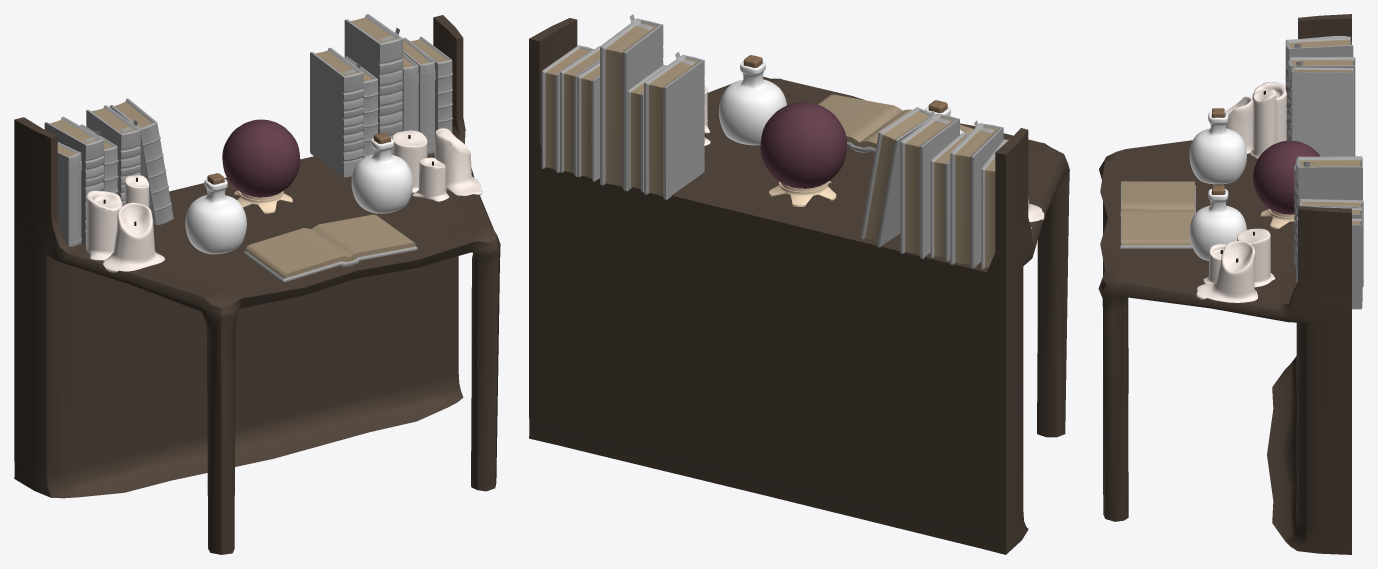
File: Arcane_Level_Objects.fbx
The picture shows the model from 3 angles, left to right: view 1: azimuth 30°, elevation 25°; view 2: azimuth 150°, elevation 25°; view 3: azimuth 270°, elevation 25°; orthographic projection. The views are drawn at different scales.
Visible parts, largest first — view 1: Arcane_Table:Arcane_Table, Spellbook:Spellbook, book_6, Stand, Candle_3 (×2), book_5, Potion_Bottle:Bottle, Bottle, Candle_1 (×2), Book_4, Book_3:book_3, book_3 (+8 smaller); view 2: Arcane_Table:Arcane_Table, book_6, book_5, Stand, book_3, Book_3:book_3, Book_4, Bottle, Spellbook:Spellbook, book_4, Book_5, Book_1:Book_1 (+4 smaller); view 3: Arcane_Table:Arcane_Table, Book_4, Spellbook:Spellbook, Candle_3 (×2), book_5, Potion_Bottle:Bottle, Stand, Bottle, Candle_1 (×2), Candle_2 (×2), Book_3:book_3, book_3 (+3 smaller).
Part boxes in pixels (left/top/right/bottom): Arcane_Table:Arcane_Table: left=14, top=15, right=500, bottom=554; Spellbook:Spellbook: left=244, top=214, right=417, bottom=282; book_6: left=310, top=47, right=363, bottom=177; Stand: left=222, top=119, right=300, bottom=197; Candle_3 (×2): left=103, top=128, right=482, bottom=272; book_5: left=344, top=14, right=402, bottom=154; Potion_Bottle:Bottle: left=185, top=178, right=246, bottom=254; Bottle: left=351, top=138, right=413, bottom=213; Candle_1 (×2): left=86, top=130, right=427, bottom=260; Book_4: left=110, top=98, right=173, bottom=224; Book_3:book_3: left=44, top=116, right=103, bottom=245; book_3: left=86, top=105, right=140, bottom=205; Arcane_Table:Arcane_Table: left=529, top=18, right=1069, bottom=554; book_6: left=644, top=52, right=704, bottom=199; book_5: left=600, top=14, right=663, bottom=191; Stand: left=760, top=102, right=846, bottom=188; book_3: left=900, top=110, right=959, bottom=258; Book_3:book_3: left=950, top=120, right=1003, bottom=268; Book_4: left=860, top=107, right=931, bottom=247; Bottle: left=718, top=61, right=786, bottom=145; Spellbook:Spellbook: left=817, top=94, right=973, bottom=152; book_4: left=577, top=62, right=599, bottom=181; Book_5: left=541, top=45, right=593, bottom=172; Book_1:Book_1: left=930, top=133, right=968, bottom=261; Arcane_Table:Arcane_Table: left=1098, top=14, right=1351, bottom=554; Book_4: left=1290, top=67, right=1353, bottom=156; Spellbook:Spellbook: left=1120, top=181, right=1195, bottom=248; Candle_3 (×2): left=1196, top=96, right=1257, bottom=302; book_5: left=1296, top=156, right=1362, bottom=283; Potion_Bottle:Bottle: left=1189, top=111, right=1246, bottom=184; Stand: left=1253, top=140, right=1320, bottom=214; Bottle: left=1189, top=189, right=1246, bottom=260; Candle_1 (×2): left=1237, top=82, right=1286, bottom=287; Candle_2 (×2): left=1203, top=89, right=1276, bottom=283; Book_3:book_3: left=1285, top=36, right=1353, bottom=140; book_3: left=1288, top=57, right=1355, bottom=156.
Size of the model in its own units: 45.56 by 38.58 by 25.65.
